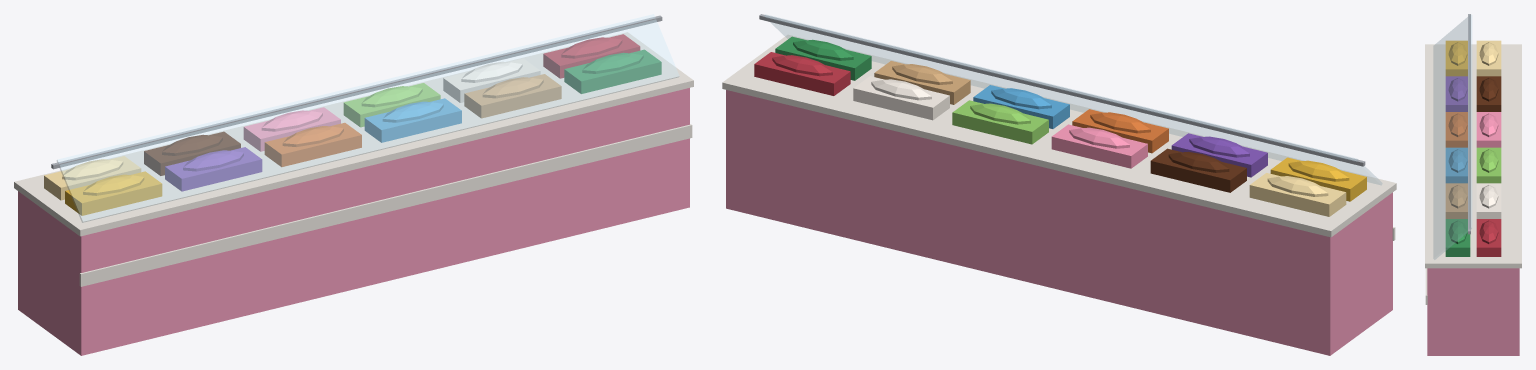
File: ice_counter.glb
3 views of the same model, side by side, from view 1: azimuth 30°, elevation 25°; view 2: azimuth 150°, elevation 25°; view 3: azimuth 270°, elevation 25° (orthographic). The views are drawn at different scales.
Parts seen in each view (by area): view 1: base_counter_pink, glass_case_glass, top_counter_white, stripe_counter_white, rail_counter_steel, flavors_11, flavors_7, flavors_9, flavors_6, flavors_10, flavors_8, flavors_4 (+5 smaller); view 2: base_counter_pink, top_counter_white, glass_case_glass, rail_counter_steel, flavors_0, flavors_3, flavors_4, flavors_1, flavors_2, flavors_5, flavors_11, flavors_10 (+4 smaller); view 3: top_counter_white, glass_case_glass, base_counter_pink, flavors_5, flavors_0, flavors_3, flavors_11, flavors_1, flavors_2, flavors_4, flavors_6, flavors_9 (+5 smaller).
Boxes of the visible parts, x1,y1,x2,y2 form: base_counter_pink: (18, 88, 689, 355); glass_case_glass: (57, 14, 679, 222); top_counter_white: (14, 32, 693, 236); stripe_counter_white: (79, 124, 692, 286); rail_counter_steel: (51, 15, 662, 169); flavors_11: (564, 49, 661, 93); flavors_7: (165, 147, 262, 191); flavors_9: (364, 98, 461, 142); flavors_6: (65, 171, 162, 215); flavors_10: (464, 74, 561, 118); flavors_8: (264, 123, 361, 166); flavors_4: (443, 58, 540, 102); base_counter_pink: (726, 90, 1392, 355); top_counter_white: (722, 34, 1396, 237); glass_case_glass: (764, 14, 1382, 185); rail_counter_steel: (759, 14, 1365, 166); flavors_0: (1249, 173, 1346, 216); flavors_3: (952, 100, 1048, 144); flavors_4: (853, 76, 949, 120); flavors_1: (1150, 148, 1246, 192); flavors_2: (1051, 124, 1147, 168); flavors_5: (754, 52, 850, 95); flavors_11: (775, 36, 871, 80); flavors_10: (874, 61, 970, 104); top_counter_white: (1425, 44, 1521, 268); glass_case_glass: (1433, 14, 1471, 259); base_counter_pink: (1427, 268, 1519, 355); flavors_5: (1476, 219, 1501, 256); flavors_0: (1476, 40, 1501, 76); flavors_3: (1476, 147, 1501, 183); flavors_11: (1445, 219, 1470, 256); flavors_1: (1476, 76, 1501, 111); flavors_2: (1476, 112, 1501, 147); flavors_4: (1476, 183, 1501, 218); flavors_6: (1445, 40, 1467, 76); flavors_9: (1445, 147, 1467, 183).
Size of the model in its own units: 5.04 by 1.36 by 0.94.
